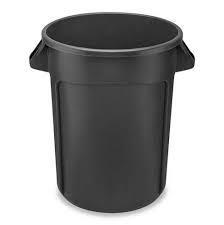garbage container: (27, 9, 197, 216)
